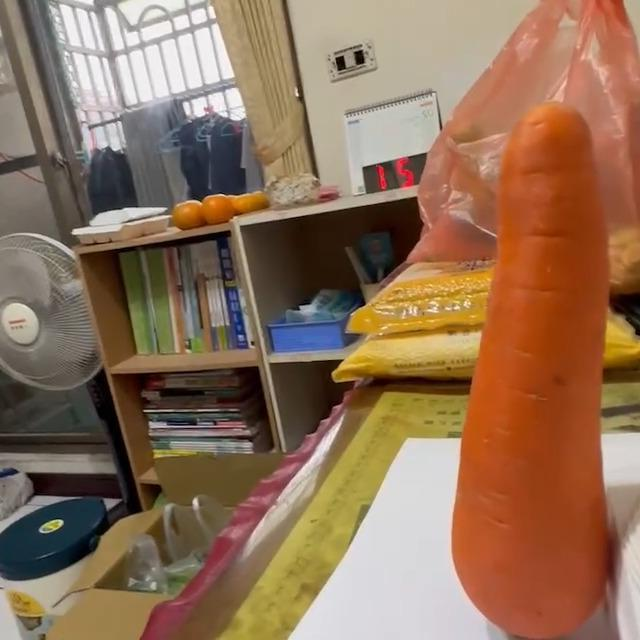carrot: (448, 102, 611, 640)
